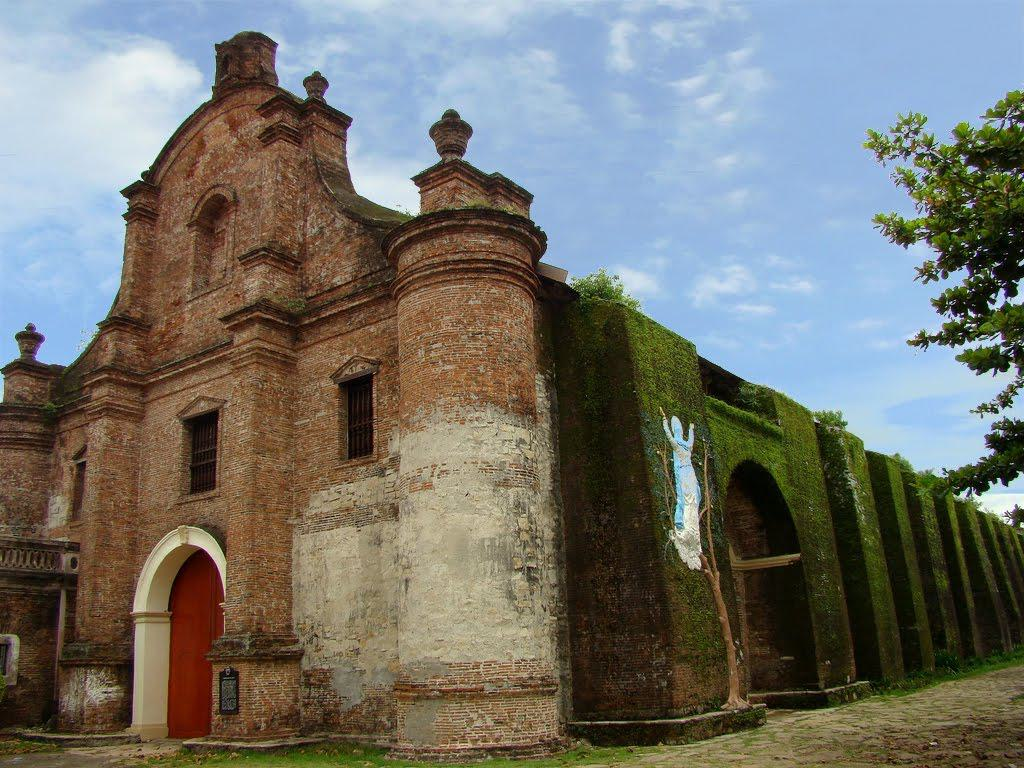Environmental Damage: (620, 326, 704, 399), (564, 264, 636, 319)
Sta. Maria Church: (44, 24, 559, 757)
Unfinished Paint: (294, 432, 560, 676)
